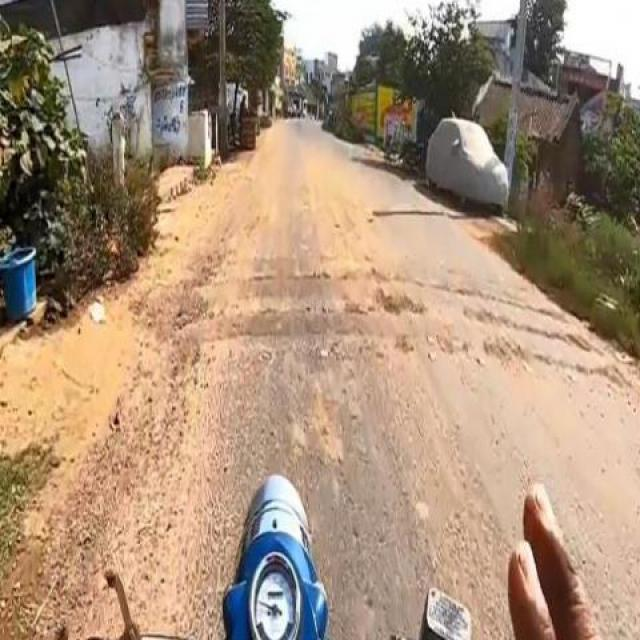Pothole: (367, 200, 458, 223)
Unmarked Bump: (182, 272, 590, 343), (184, 307, 610, 372)
